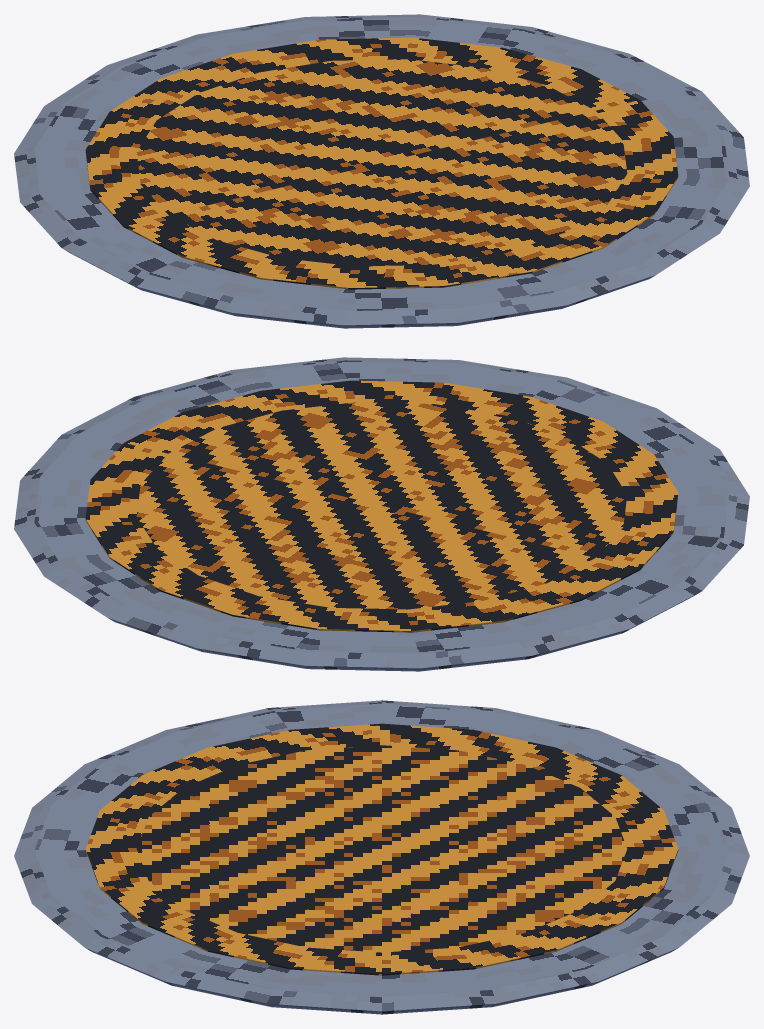
Rendered from stn.floor__pad.glb.
3 views of the same model, one above another, from view 1: azimuth 30°, elevation 25°; view 2: azimuth 150°, elevation 25°; view 3: azimuth 270°, elevation 25° (orthographic).
Visible parts, largest first — view 1: kit_marks, kit_pad; view 2: kit_marks, kit_pad; view 3: kit_marks, kit_pad.
Part boxes in pixels (bbox=[...]): kit_marks: bbox=[85, 37, 678, 289]; kit_pad: bbox=[14, 14, 749, 328]; kit_marks: bbox=[85, 380, 678, 632]; kit_pad: bbox=[14, 357, 749, 671]; kit_marks: bbox=[85, 723, 678, 975]; kit_pad: bbox=[14, 700, 749, 1014].
Bounding box in the file's own units: 3.6 × 0.078 × 3.6.
Materials: 2 (2 with a texture image).
